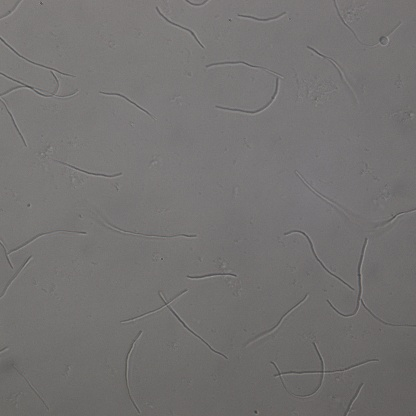Sensitive: (326, 237, 414, 328), (121, 289, 228, 358), (269, 342, 379, 399), (1, 37, 79, 105), (204, 60, 284, 116), (285, 229, 353, 289), (1, 228, 87, 269), (244, 292, 307, 345), (296, 172, 360, 223), (332, 1, 401, 47), (308, 47, 358, 102), (96, 215, 197, 242), (156, 7, 204, 48), (122, 330, 142, 413), (51, 159, 122, 180), (99, 91, 151, 116), (1, 94, 26, 145), (1, 256, 30, 297), (375, 206, 416, 228), (238, 7, 286, 24), (187, 269, 237, 281)
